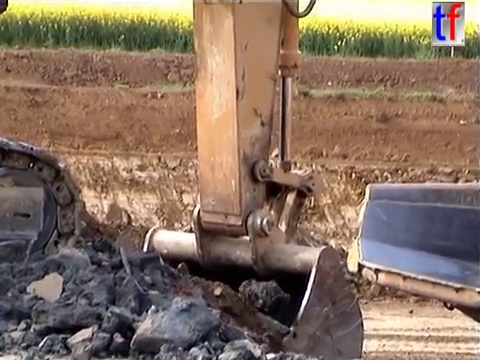excavator: (1, 1, 368, 360)
truck: (341, 177, 480, 330)
